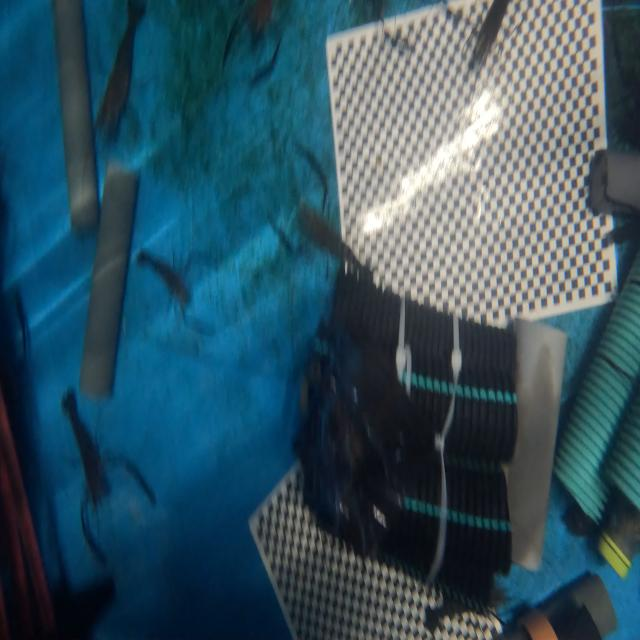prawn: (63, 390, 107, 504), (298, 203, 359, 271), (138, 251, 189, 306)
